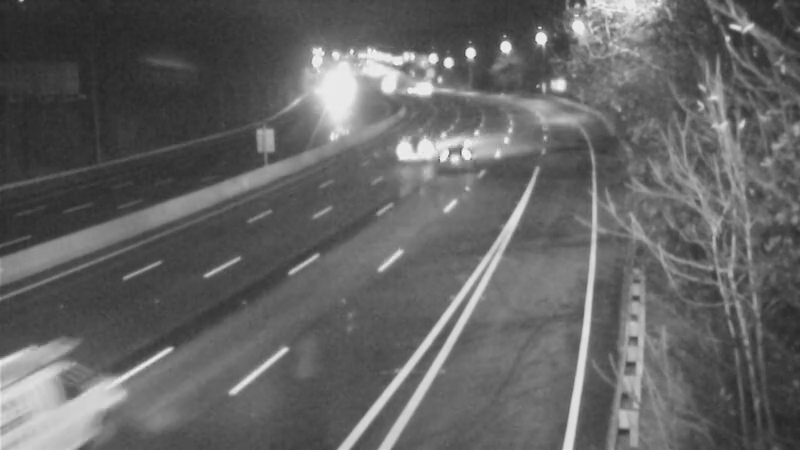vehicle: (1, 347, 107, 450), (415, 117, 495, 197), (400, 64, 450, 114), (381, 64, 431, 114), (397, 119, 447, 169)
